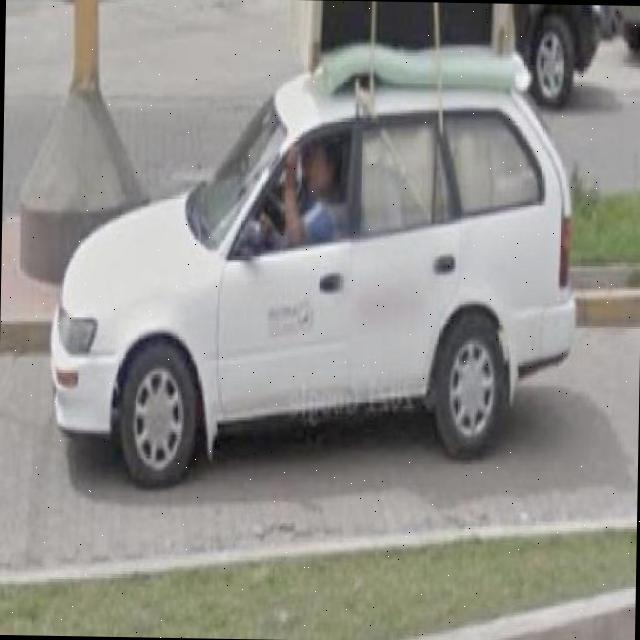car: (46, 53, 574, 487)
